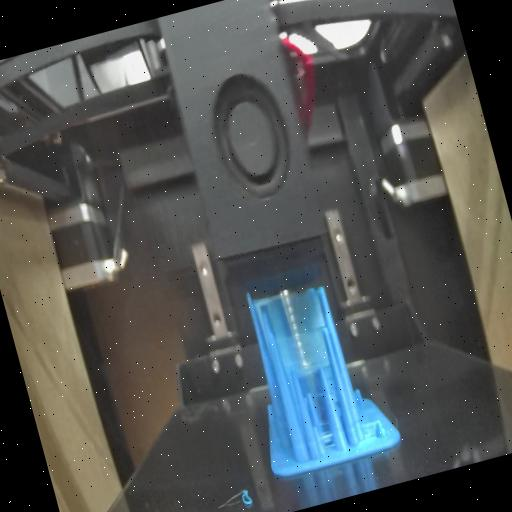stringing: (264, 284, 336, 378), (303, 378, 341, 456)
